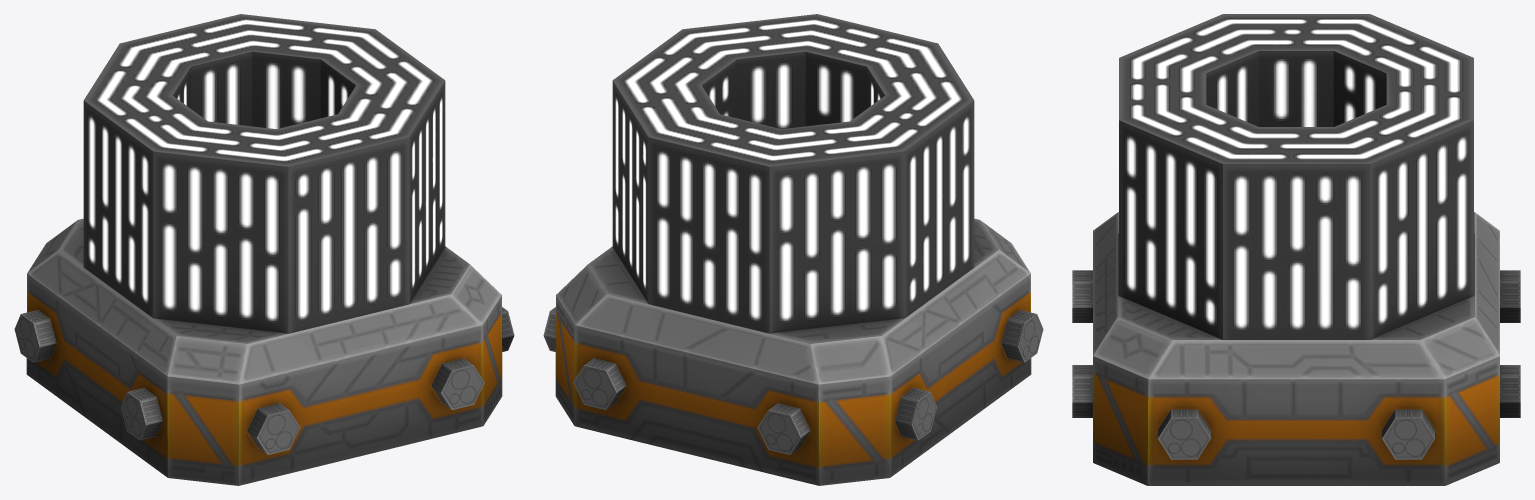
Rendered from CPU.dae.
3 views of the same model, side by side, from view 1: azimuth 30°, elevation 25°; view 2: azimuth 150°, elevation 25°; view 3: azimuth 270°, elevation 25° (orthographic). The views are drawn at different scales.
Parts seen in each view (by area): view 1: CPU; view 2: CPU; view 3: CPU.
Boxes of the visible parts, <box> form: CPU: <box>14,14,514,485</box>; CPU: <box>543,14,1043,485</box>; CPU: <box>1072,14,1520,485</box>.
Size of the model in its own units: 2 by 1.53 by 2.
